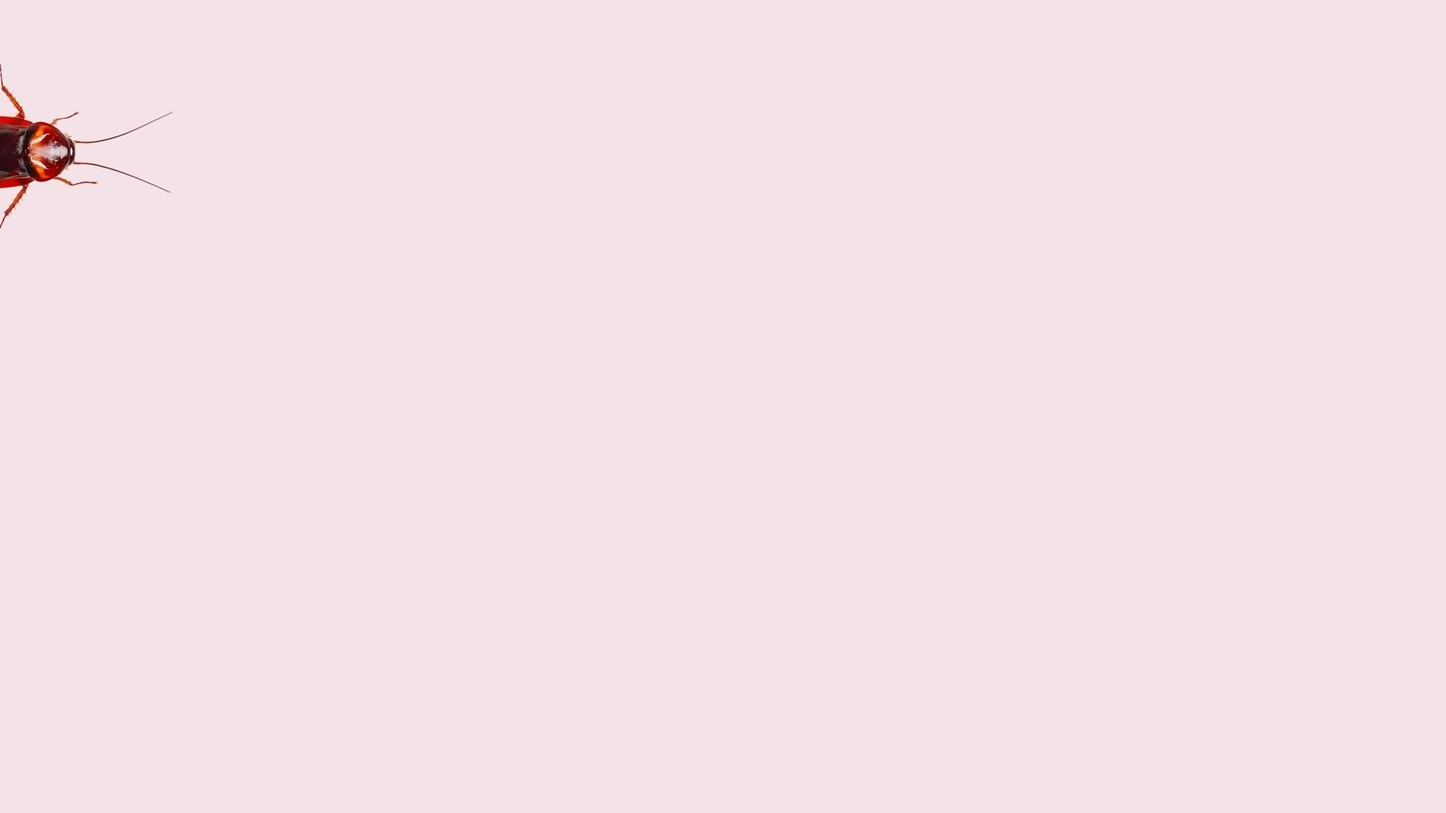cockroach: (0, 81, 164, 226)
